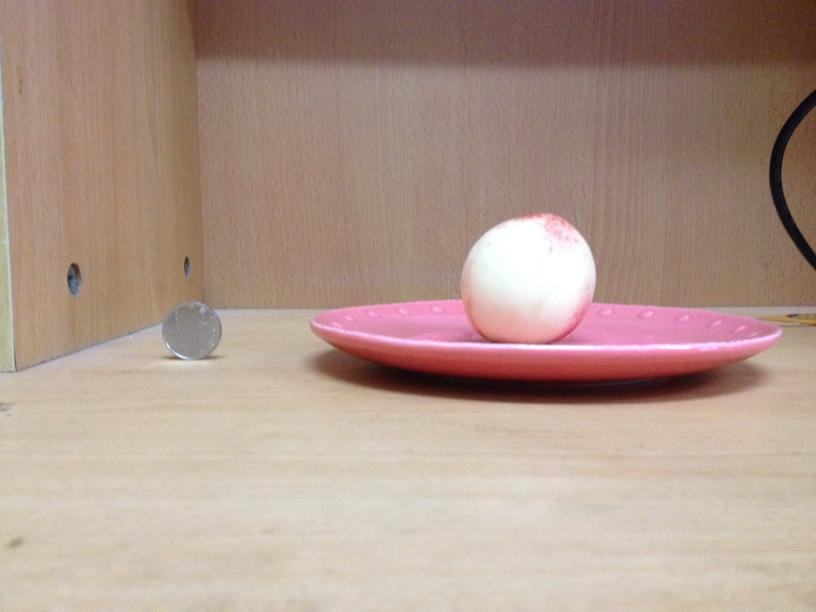coin: (162, 301, 223, 361)
peach: (461, 208, 599, 344)
